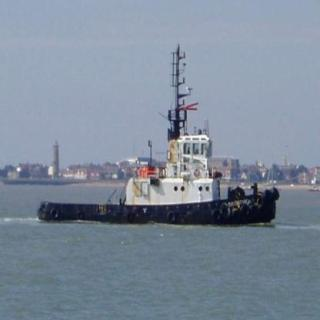Tug Boat: (46, 84, 276, 225)
